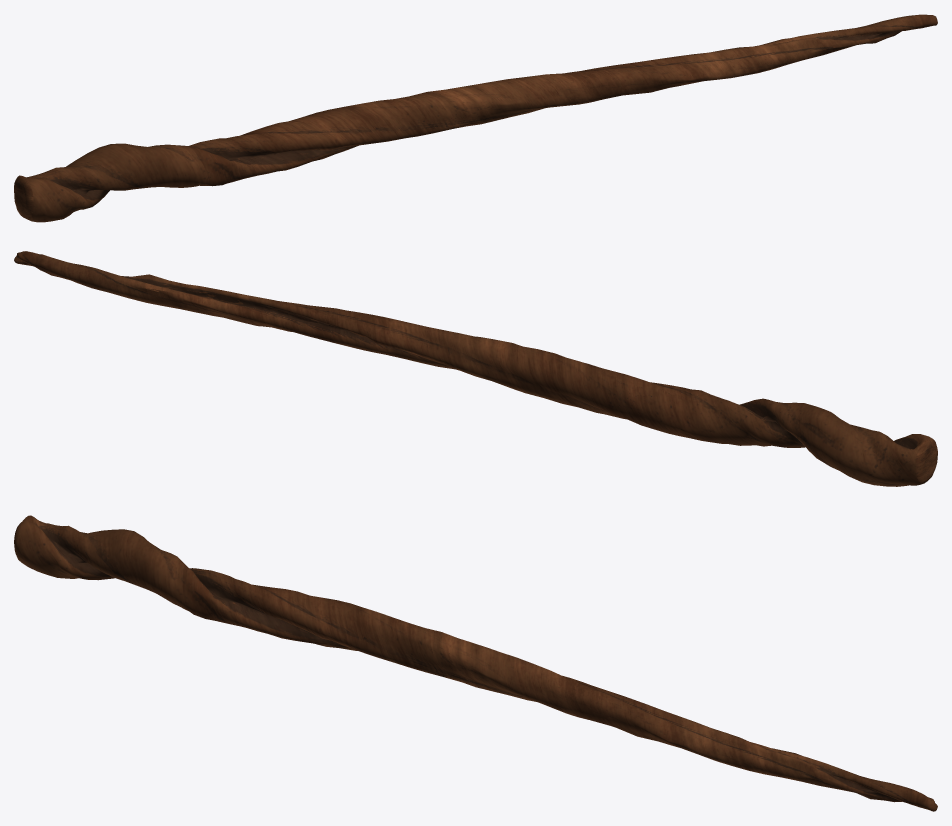
Rendered from uploads_files_4602352_low.fbx.
3 renders of one model, top to bottom at view 1: azimuth 30°, elevation 25°; view 2: azimuth 150°, elevation 25°; view 3: azimuth 330°, elevation 25°, orthographic. The views are drawn at different scales.
Parts seen in each view (by area): view 1: RetopoFlow; view 2: RetopoFlow; view 3: RetopoFlow.
Boxes of the visible parts, x1,y1,x2,y2 form: RetopoFlow: (14,14,937,222); RetopoFlow: (14,251,937,486); RetopoFlow: (14,515,937,811).
Size of the model in its own units: 19.22 by 1.33 by 1.41.
